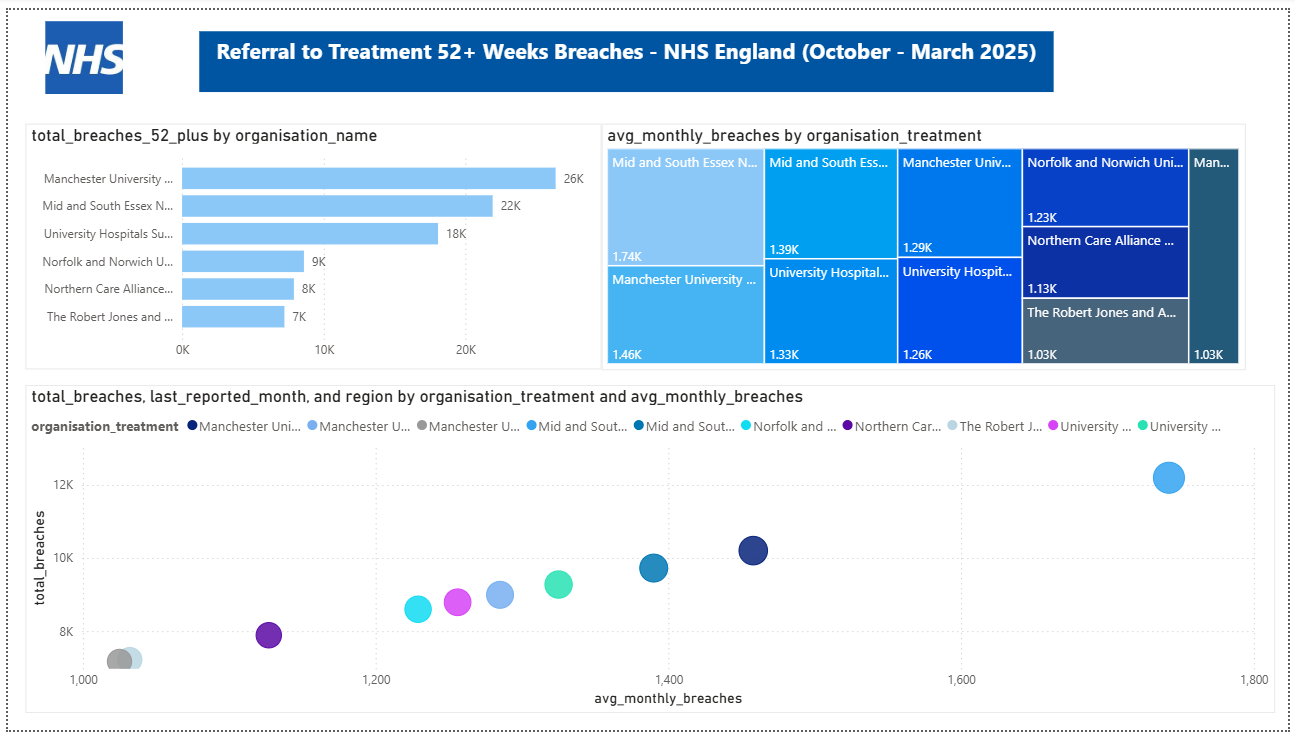

The dashboard page shown, as its layout file describes it:
{"tool":"powerbi","page":{"name":"Referral_To_Treatment","canvas":[1280,720],"ordinal":1},"visuals":[{"type":"textbox","box":[190.8,20.8,854.8,61.1],"z":0},{"type":"image","box":[32.3,0,87.1,95.2],"z":1000},{"type":"clusteredBarChart","title":"total_breaches_52_plus by organisation_name","fields":{"Y":["Sum(public rtt_52plus_weeks_breaches_analysis.total_breaches_52_plus)"],"Category":["public rtt_52plus_weeks_breaches_analysis.organisation_name","public rtt_52plus_weeks_breaches_analysis.treatment_function"]},"box":[17.1,113.7,576,245.8],"z":2000},{"type":"scatterChart","title":"total_breaches, last_reported_month, and region by organisation_treatment and avg_monthly_breaches ","fields":{"X":["public rtt_52plus_weeks_breaches_analysis.avg_monthly_breaches"],"Y":["public rtt_52plus_weeks_breaches_analysis.total_breaches_52_plus"],"Size":["Sum(public rtt_52plus_weeks_breaches_analysis.total_breaches_52_plus)"],"Series":["public rtt_52plus_weeks_breaches_analysis.Org_Treatment_Label"]},"box":[17.1,375.4,1249.7,327.7],"z":3000},{"type":"treemap","fields":{"Group":["public rtt_52plus_weeks_breaches_analysis.org_treatment"],"Values":["Avg(public rtt_52plus_weeks_breaches_analysis.avg_monthly_breaches)"]},"box":[593.4,114,643.7,246.4],"z":4000}]}

Visuals, with their boxes in screenshot pixels (x1, y1, x2, y2), scaled from the page's 1280x720 canvas onto the 1295x737 screenshot:
textbox: l=193, t=21, r=1058, b=84
image: l=33, t=0, r=121, b=97
"total_breaches_52_plus by organisation_name" clusteredBarChart: l=17, t=116, r=600, b=368
"total_breaches, last_reported_month, and region by organisation_treatment and avg_monthly_breaches " scatterChart: l=17, t=384, r=1282, b=720
treemap - public rtt_52plus_weeks_breaches_analysis.org_treatment x Avg(public rtt_52plus_weeks_breaches_analysis.avg_monthly_breaches): l=600, t=117, r=1252, b=369
